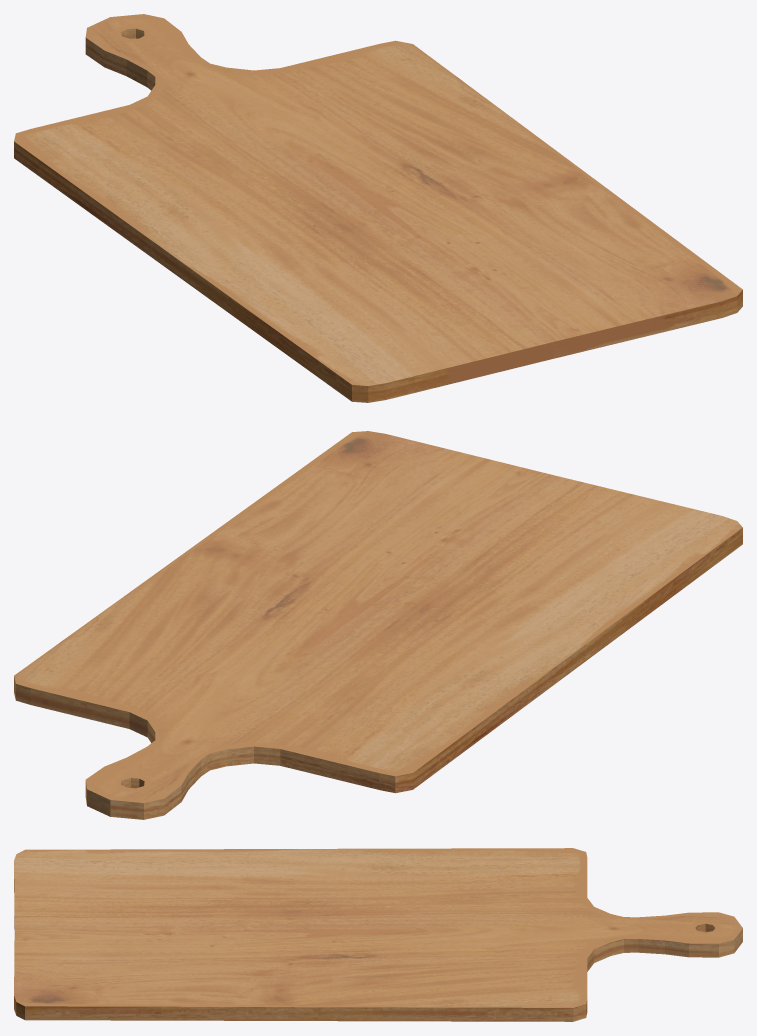
File: cuttingboard.fbx
The picture shows the model from 3 angles, top to bottom: view 1: azimuth 30°, elevation 25°; view 2: azimuth 150°, elevation 25°; view 3: azimuth 270°, elevation 25°; orthographic projection. The views are drawn at different scales.
Parts seen in each view (by area): view 1: Cutting board; view 2: Cutting board; view 3: Cutting board.
Boxes of the visible parts, left/top/right/bottom form: Cutting board: left=14, top=14, right=742, bottom=402; Cutting board: left=14, top=431, right=742, bottom=819; Cutting board: left=14, top=848, right=742, bottom=1021.
Size of the model in its own units: 209 by 8.45 by 402.
